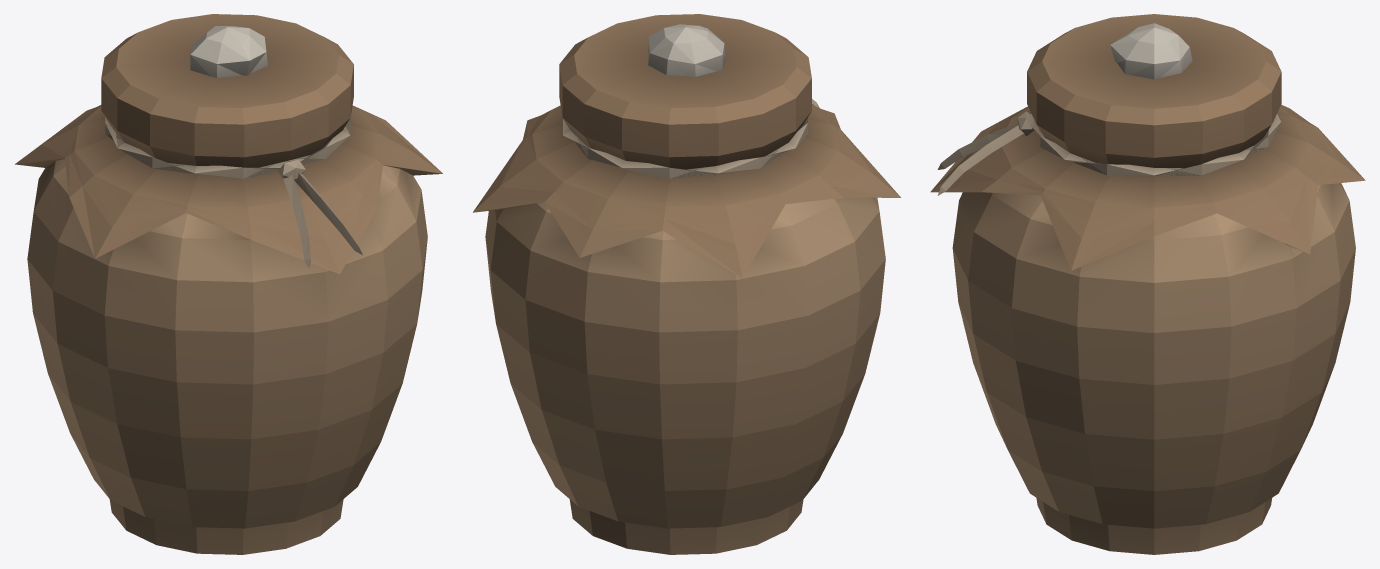
Rendered from jar.glb.
3 renders of one model, left to right at view 1: azimuth 30°, elevation 25°; view 2: azimuth 150°, elevation 25°; view 3: azimuth 270°, elevation 25°, orthographic.
Visible parts, largest first — view 1: jar.001; view 2: jar.001; view 3: jar.001.
Part boxes in pixels (x1=…): jar.001: x1=15, y1=14, x2=442, y2=554; jar.001: x1=473, y1=14, x2=900, y2=554; jar.001: x1=930, y1=14, x2=1365, y2=554.
Size of the model in its own units: 0.7546 by 0.987 by 0.8153.
